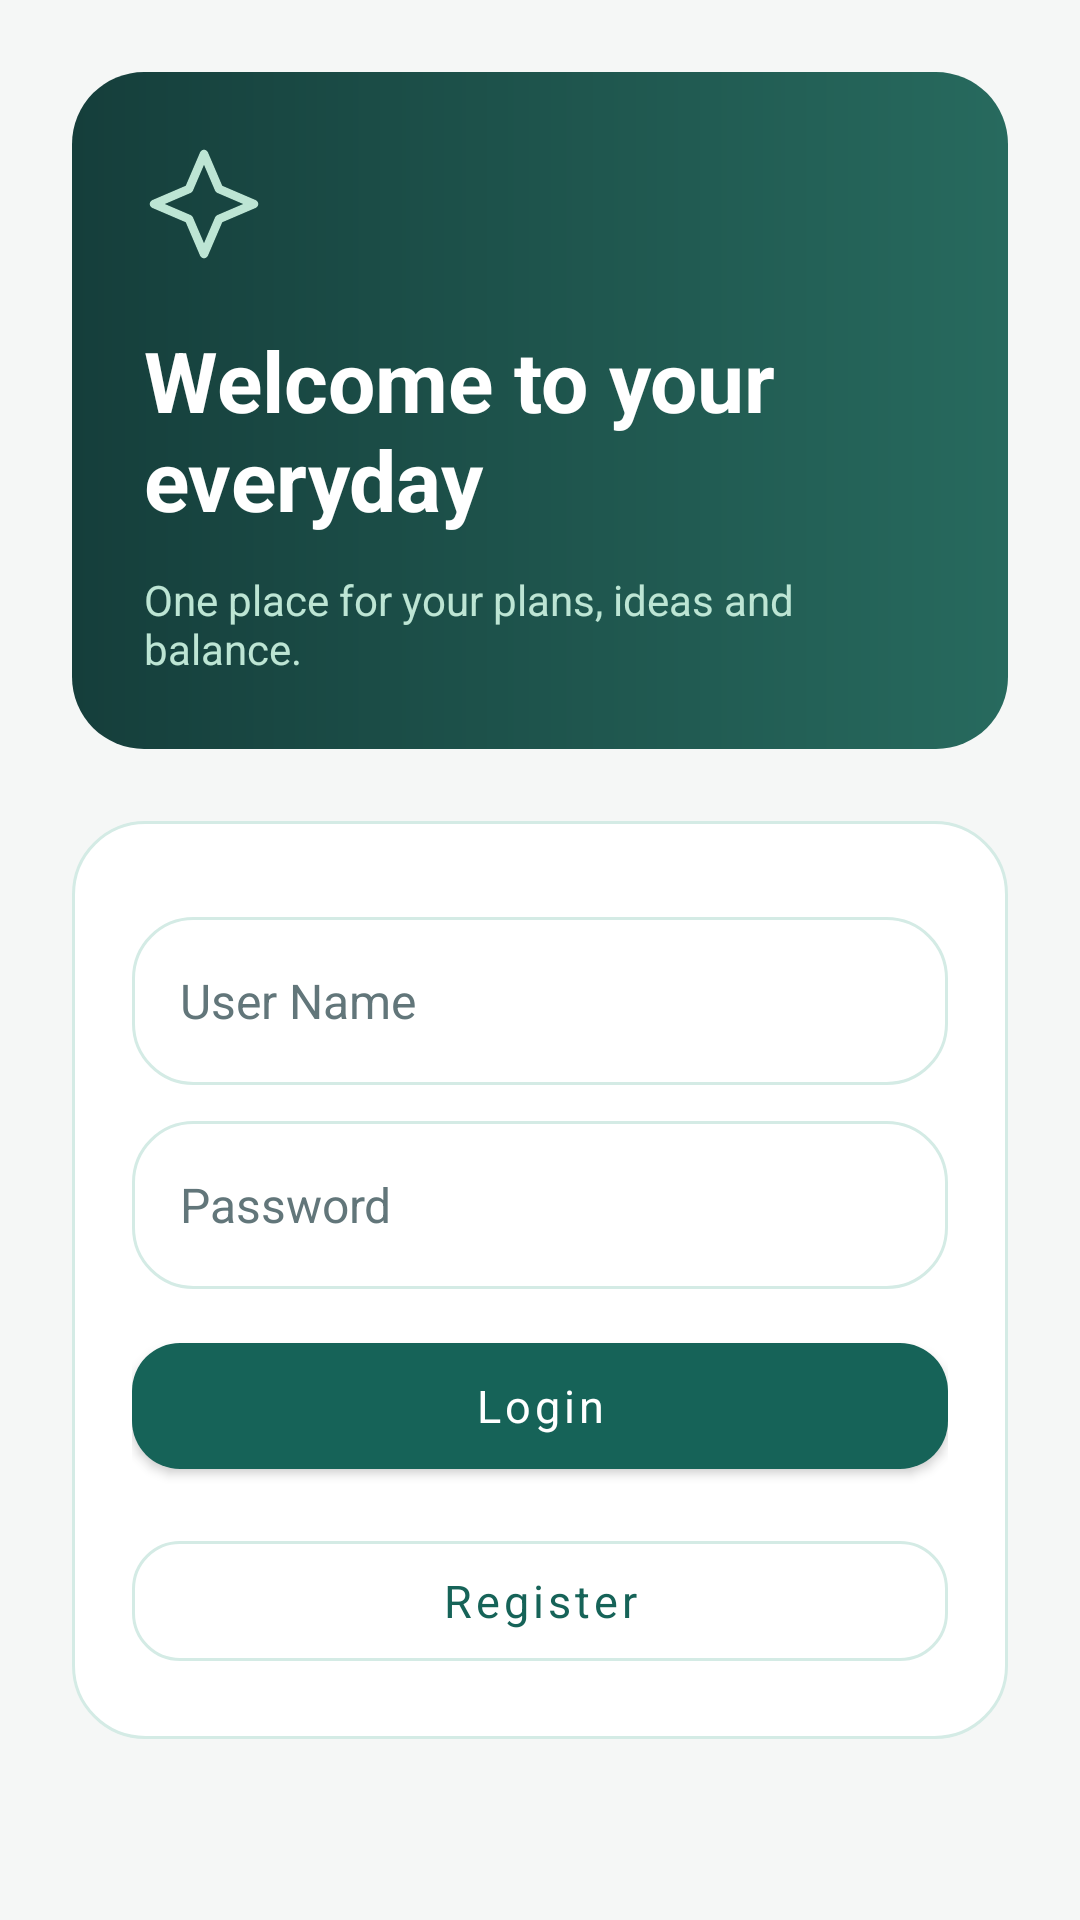

Where to tap for icons on this 1080px x 1920px app screen, as point (x, y):
spark: point (204, 204)
